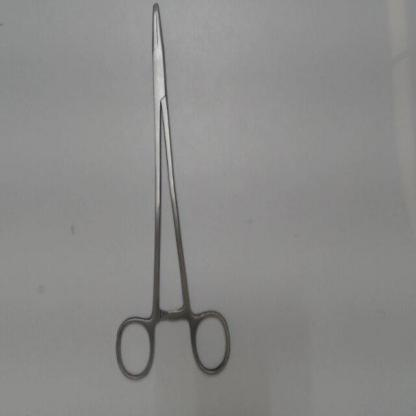8 Mayo Needle Holder: (107, 1, 237, 390)
